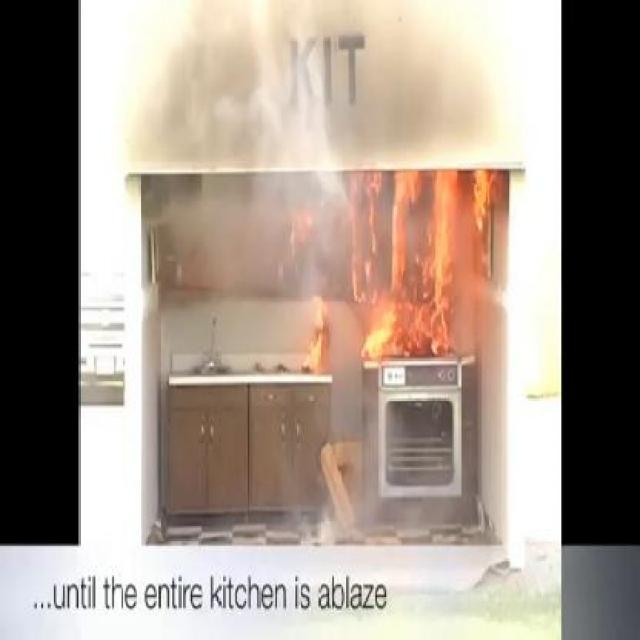fire: (343, 176, 460, 359), (302, 288, 333, 384), (469, 169, 503, 222), (292, 190, 312, 264)
smoke: (215, 32, 338, 160), (152, 184, 260, 258), (327, 406, 385, 540), (162, 56, 216, 142)
